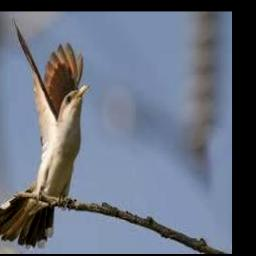Cuckoo: (0, 21, 90, 247)
